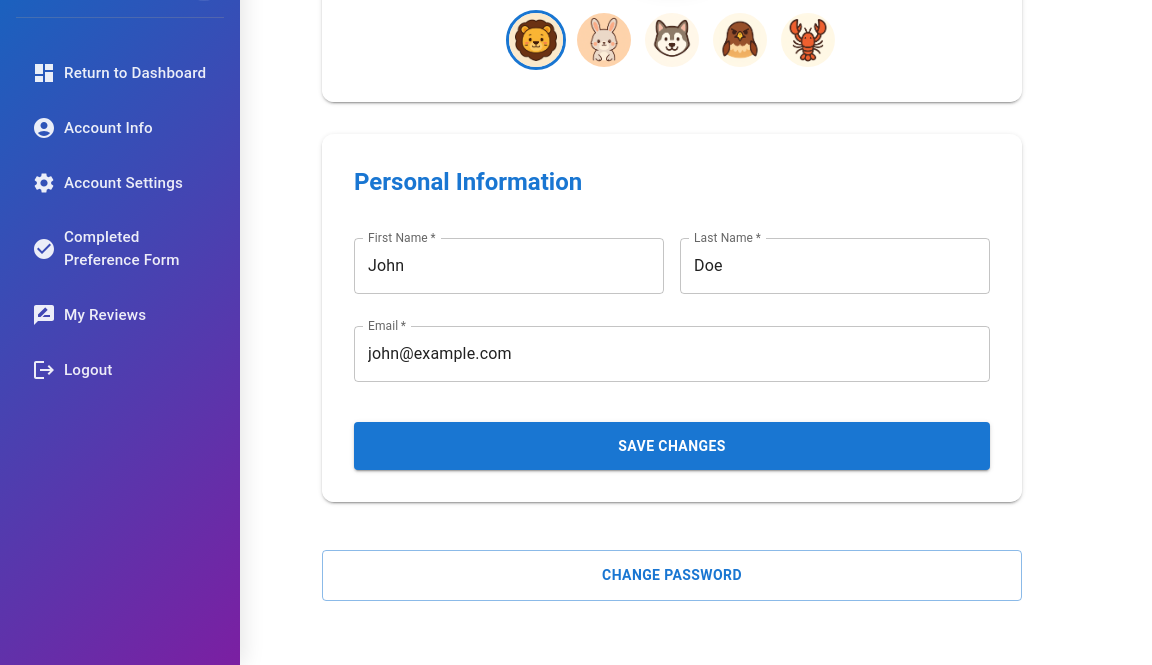
Test case: AccountSettings Page › opens the change password form
The width and height of the screenshot is (1152, 665).
(page scrolled)
Click the button "Change Password" at (672, 575), box [322,550,1022,600]
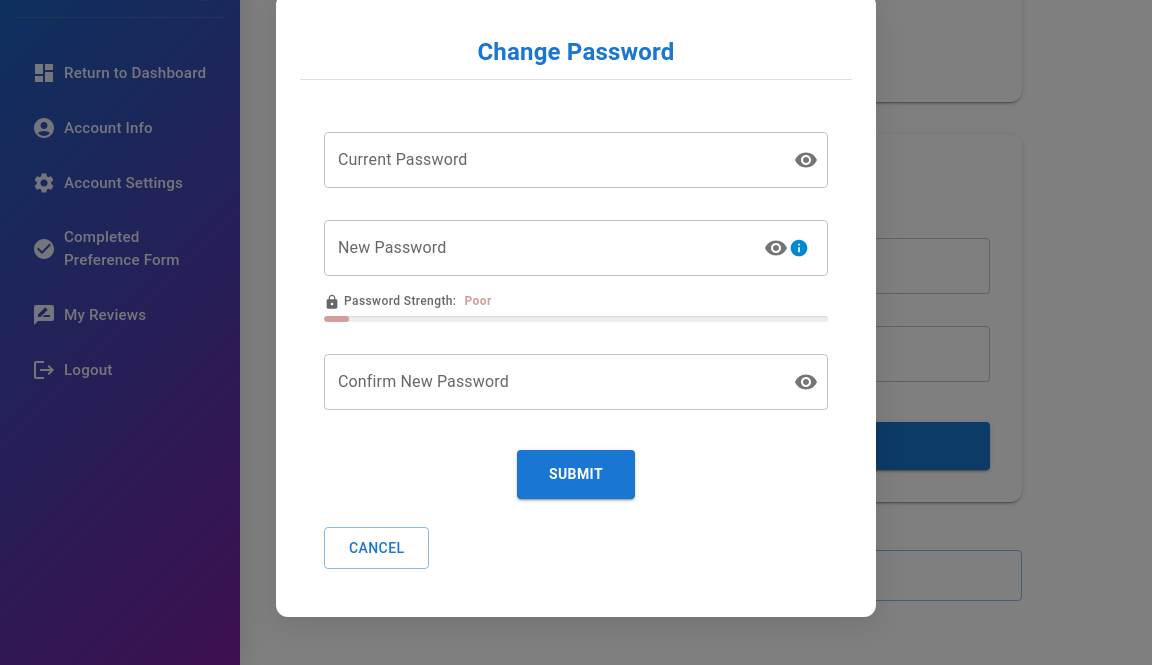
Check: the heading "Change Password" is shown, box [478,38,674,66]
